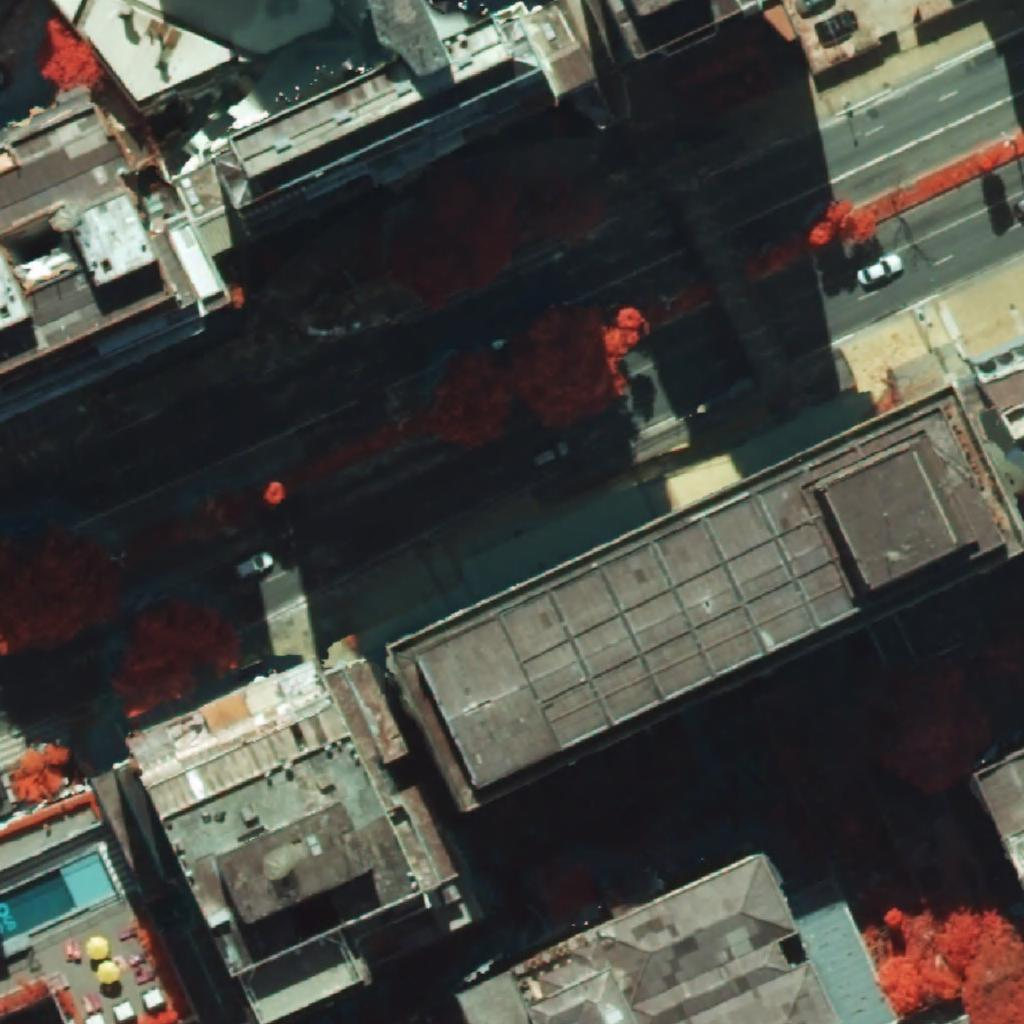pool: (0, 852, 117, 942)
